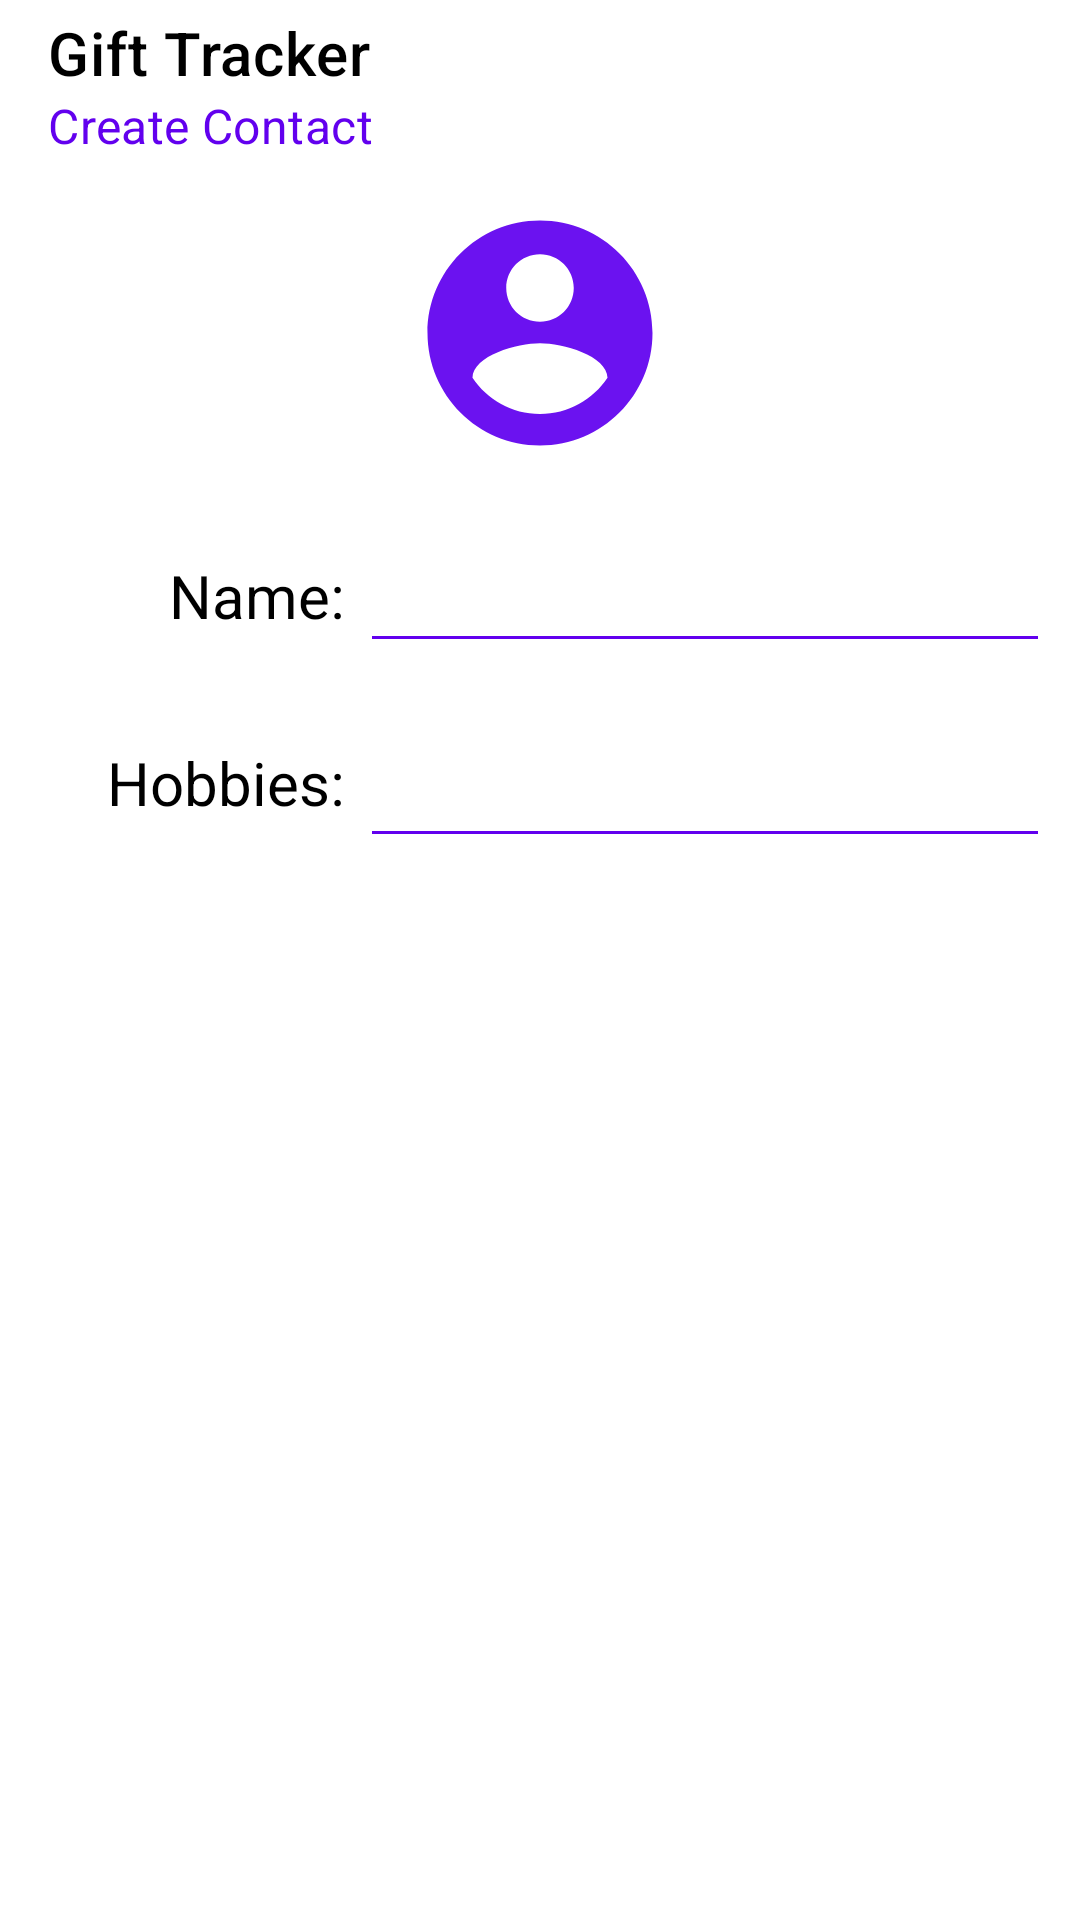

Icon click points for this 1080×1920 phone screenshot, format point (x, y):
account circle: point (540, 333)
